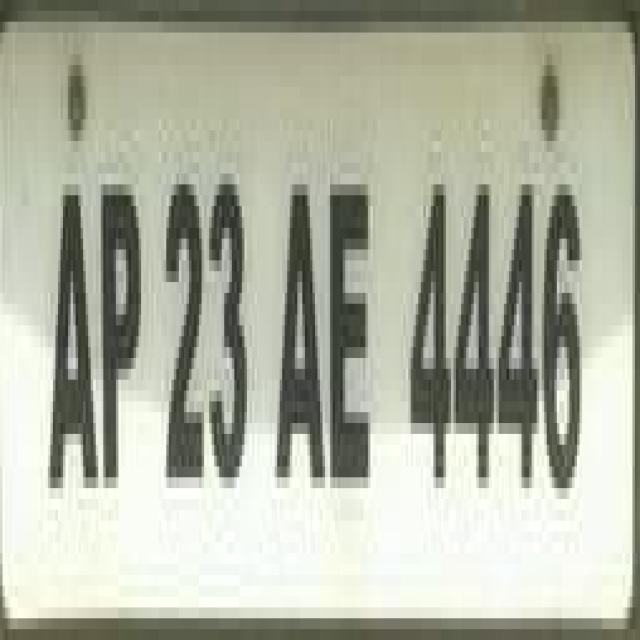license_plate: (5, 11, 605, 640)
